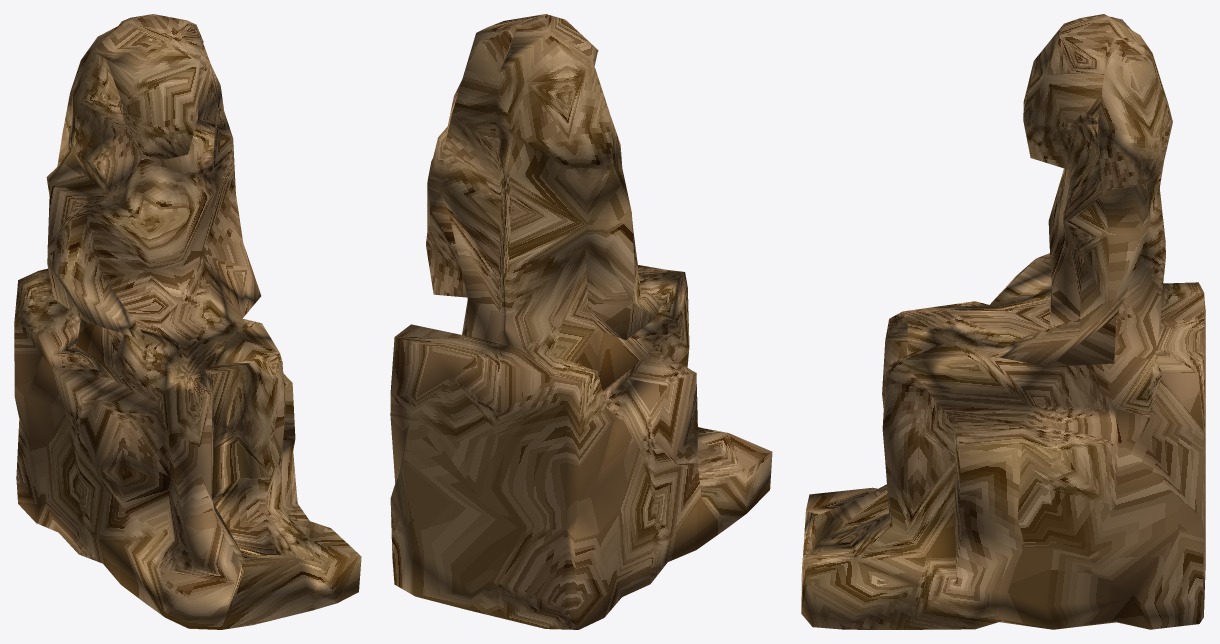
The model's file is colosse_lod.glb.
3 views of the same model, side by side, from view 1: azimuth 30°, elevation 25°; view 2: azimuth 150°, elevation 25°; view 3: azimuth 270°, elevation 25° (orthographic). The views are drawn at different scales.
Size of the model in its own units: 0.741 by 1.88 by 1.23.
Materials: 1 (1 with a texture image).
